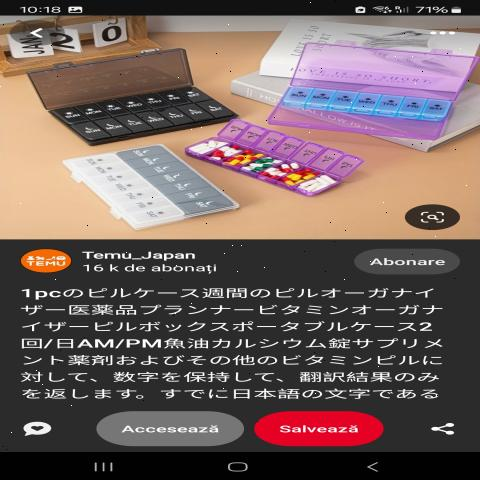PillBox: (35, 84, 243, 141)
